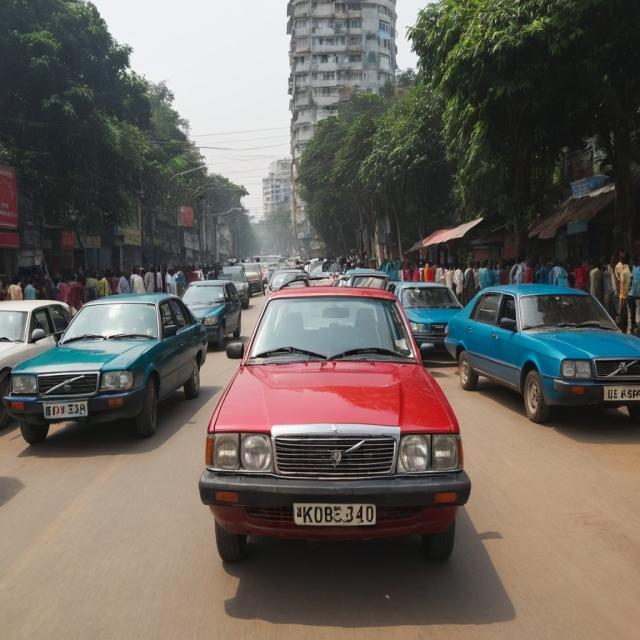blue: (14, 293, 204, 444), (446, 280, 640, 423), (390, 279, 466, 357), (178, 277, 245, 349)
red: (190, 271, 460, 551)
white: (0, 294, 87, 435)
